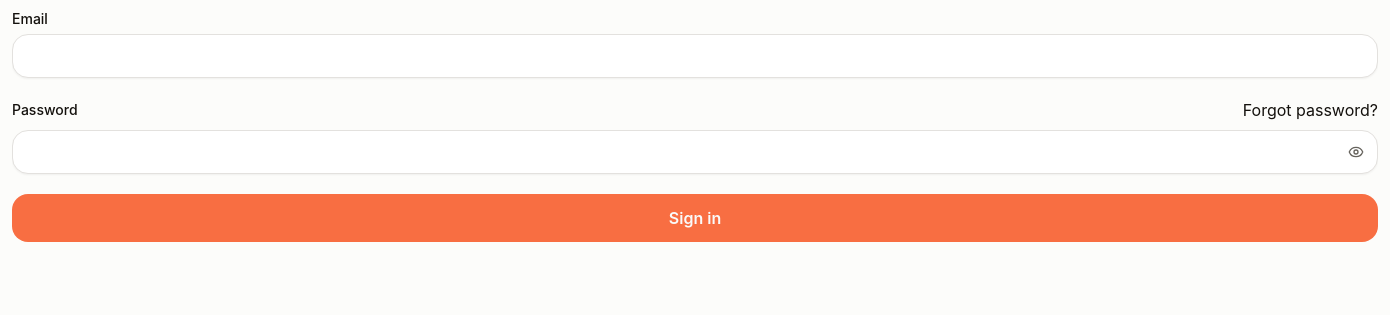
Test: LoginForm › shows validation errors when fields are empty
The width and height of the screenshot is (1390, 315).
Step 1. Click the button with test id "login-submit" → (695, 218), box [12,194,1378,242]
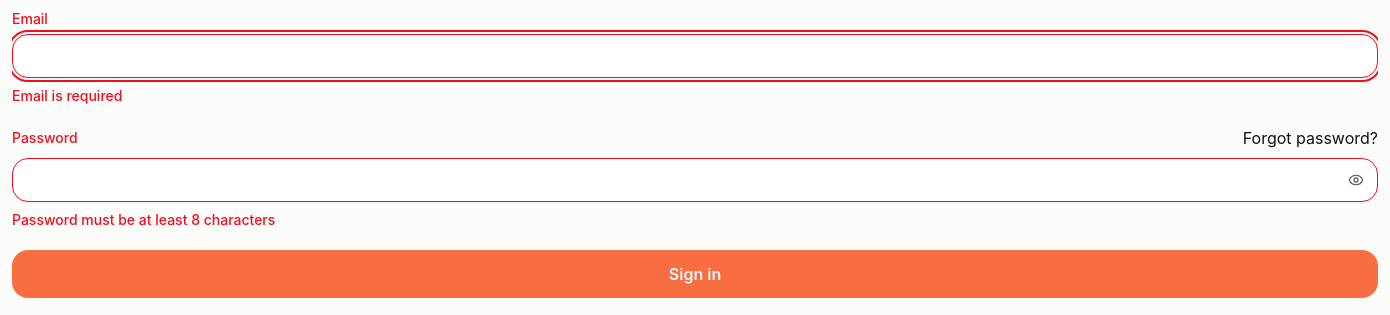
Expected: the text "Email is required" is shown, [12,87,122,104]
Expected: the text "Password must be at least 8 characters" is shown, [12,211,275,228]
